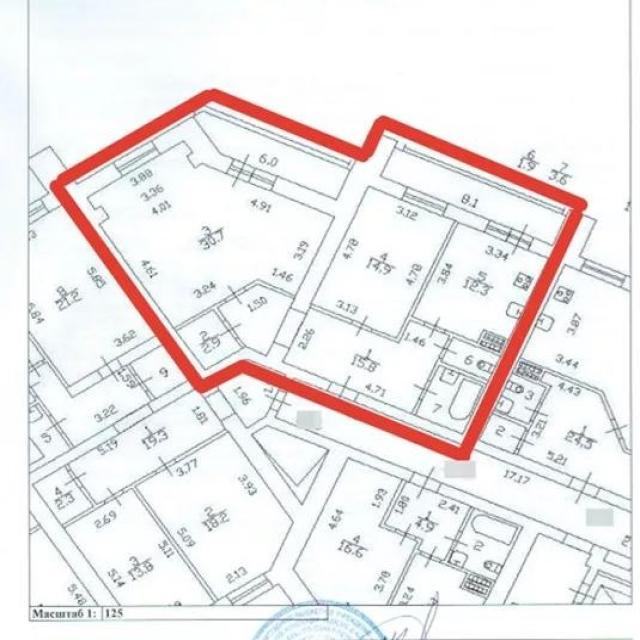Bathrooms: (449, 510, 521, 579), (419, 368, 485, 432), (29, 405, 68, 473), (496, 375, 543, 422), (444, 339, 497, 379)
Corridors: (277, 380, 631, 558), (383, 148, 565, 244), (71, 389, 225, 501), (285, 310, 448, 411), (521, 375, 631, 498), (197, 114, 352, 199), (29, 364, 150, 445), (388, 483, 470, 559), (504, 534, 589, 605), (254, 428, 327, 503), (222, 287, 293, 354), (215, 361, 282, 426), (181, 313, 241, 369), (35, 468, 92, 524), (483, 416, 524, 451), (247, 586, 294, 606), (29, 341, 41, 364), (28, 392, 35, 404)
Doors: (274, 307, 307, 349), (113, 402, 154, 435), (568, 469, 601, 507), (409, 464, 442, 500), (225, 152, 257, 189), (506, 221, 535, 258), (326, 371, 360, 402), (205, 390, 235, 421), (95, 353, 124, 384), (568, 580, 599, 604), (153, 454, 179, 480), (411, 379, 440, 402), (263, 389, 292, 412), (563, 533, 594, 554), (441, 530, 470, 552), (423, 314, 448, 339), (419, 544, 443, 570), (219, 318, 244, 342), (351, 312, 374, 338), (509, 429, 536, 451), (433, 337, 458, 360), (129, 371, 155, 393), (604, 418, 629, 440), (394, 522, 416, 547), (224, 282, 247, 305), (524, 401, 549, 422), (103, 485, 124, 508), (45, 414, 67, 435), (63, 469, 86, 489), (27, 357, 45, 378), (28, 380, 41, 397)
LBwalls: (29, 145, 207, 380), (462, 209, 599, 438), (222, 412, 350, 606), (272, 132, 407, 315), (356, 394, 573, 488), (28, 424, 121, 606), (439, 484, 568, 606), (148, 347, 334, 413), (248, 409, 414, 482), (151, 116, 233, 174), (585, 543, 632, 585), (443, 202, 491, 233), (118, 336, 162, 369), (67, 368, 104, 399), (596, 487, 631, 513), (603, 551, 633, 571), (265, 342, 290, 362), (196, 380, 220, 400), (277, 375, 294, 393), (212, 595, 234, 606), (623, 274, 633, 294)
Offices: (90, 143, 333, 327), (137, 434, 292, 598), (29, 206, 154, 386), (313, 187, 453, 335), (523, 265, 631, 448), (296, 460, 416, 606), (67, 491, 213, 606), (416, 223, 548, 340), (392, 556, 484, 606), (135, 347, 186, 398)
Walls: (395, 143, 569, 216), (122, 471, 218, 602), (372, 221, 459, 344), (193, 106, 354, 169), (513, 357, 615, 420), (441, 550, 496, 599), (386, 536, 423, 605), (29, 330, 70, 389), (445, 328, 508, 357), (174, 299, 227, 333), (63, 487, 105, 528), (176, 429, 228, 462), (428, 359, 488, 384), (379, 480, 407, 533), (245, 278, 294, 299), (311, 304, 352, 326), (494, 409, 534, 431), (29, 395, 52, 417), (459, 507, 475, 533), (582, 568, 599, 586), (618, 438, 632, 456), (61, 433, 75, 450), (411, 399, 423, 414), (237, 339, 248, 350), (127, 364, 137, 375), (147, 389, 156, 401), (65, 462, 73, 471)
Windows: (113, 141, 161, 177), (226, 573, 273, 606), (402, 186, 448, 217), (580, 259, 626, 289), (249, 166, 278, 191), (484, 220, 511, 241), (28, 198, 48, 226)
